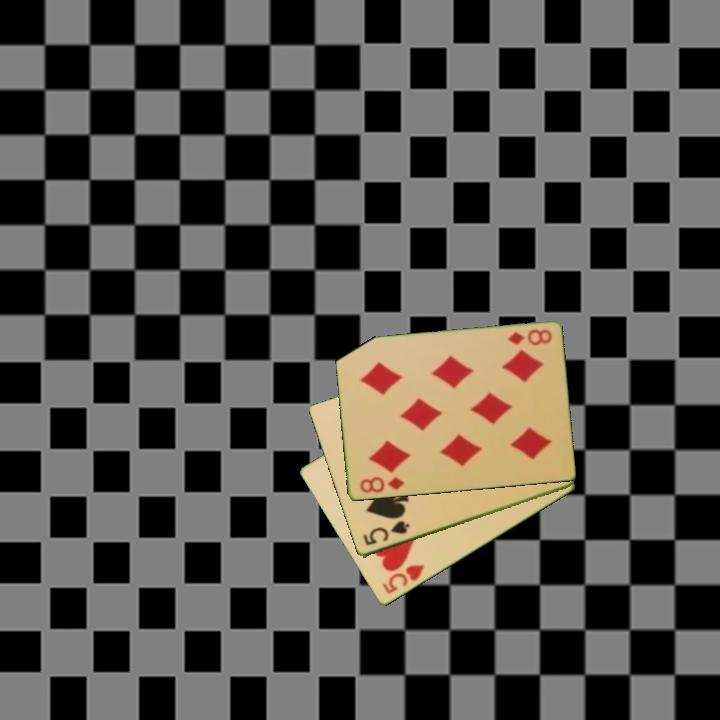5h: (378, 561, 427, 598)
5s: (359, 517, 412, 549)
8d: (356, 473, 407, 496), (504, 326, 554, 348)
